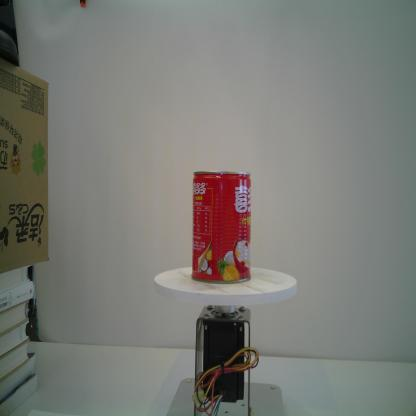Canned Food: (189, 168, 252, 286)
